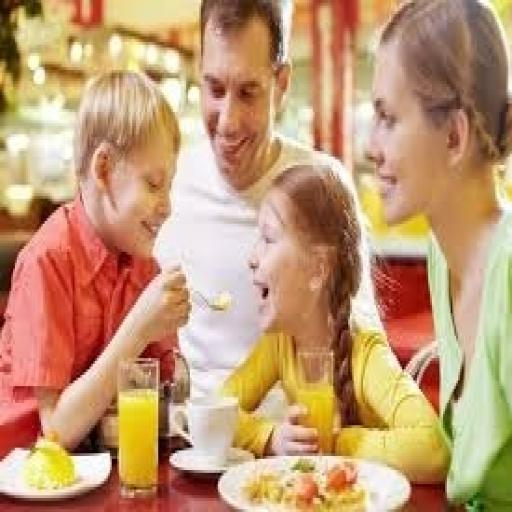eating: (2, 0, 508, 504), (0, 64, 192, 456), (365, 0, 510, 509)
